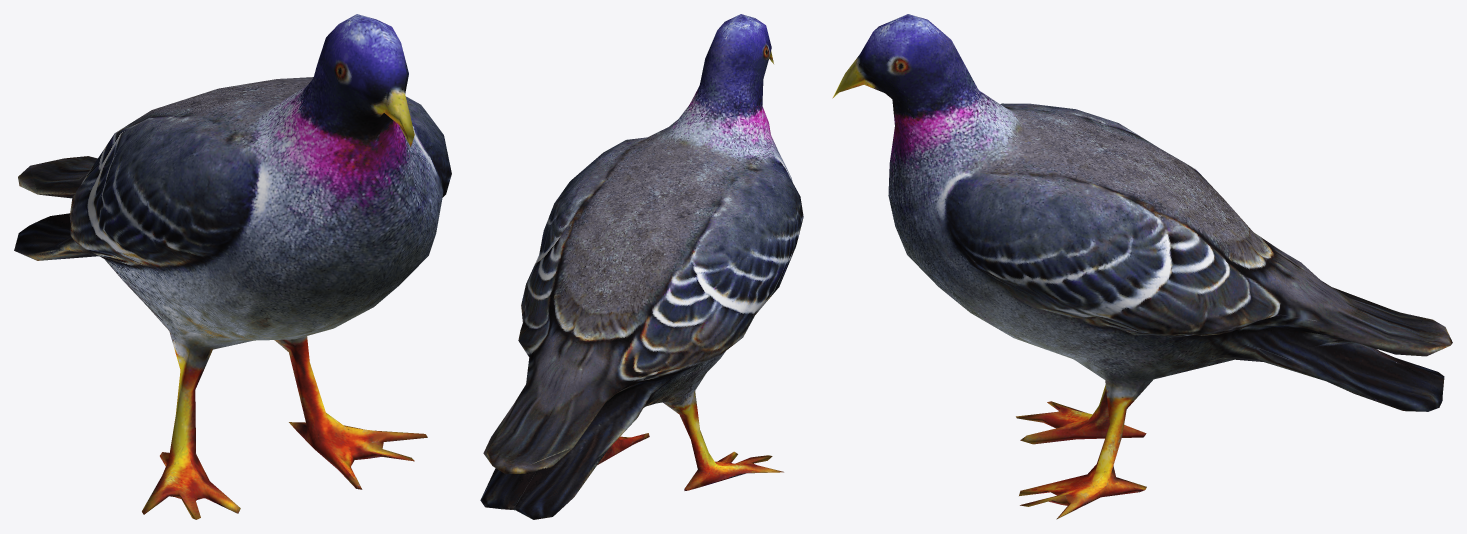
3 renders of one model, left to right at view 1: azimuth 30°, elevation 25°; view 2: azimuth 150°, elevation 25°; view 3: azimuth 270°, elevation 25°, orthographic. The views are drawn at different scales.
Parts seen in each view (by area): view 1: Pigeon_Low_Poly; view 2: Pigeon_Low_Poly; view 3: Pigeon_Low_Poly.
Boxes of the visible parts, left/top/right/bottom form: Pigeon_Low_Poly: left=14, top=14, right=451, bottom=519; Pigeon_Low_Poly: left=480, top=14, right=803, bottom=519; Pigeon_Low_Poly: left=832, top=14, right=1452, bottom=519.
Bounding box in the file's own units: 7.07 × 11.9 × 14.79.
1 material, 1 textured.
